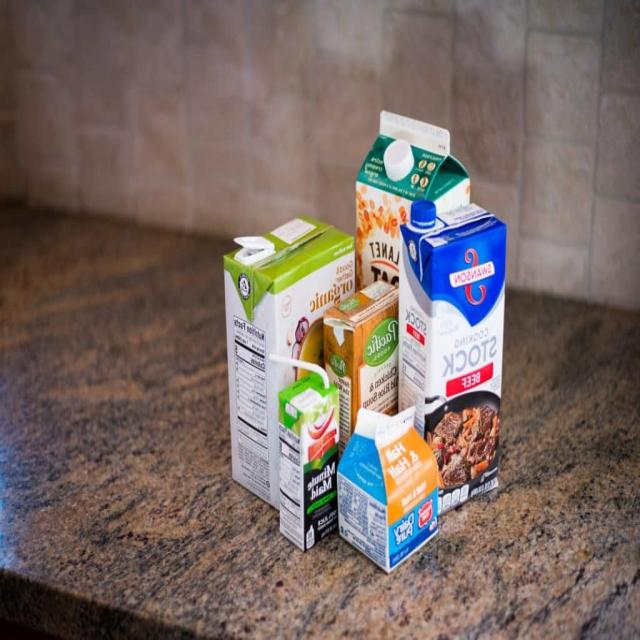cardboard: (222, 217, 348, 503), (401, 193, 508, 508), (357, 112, 470, 280), (341, 400, 446, 577), (328, 272, 398, 438), (280, 369, 341, 548)
